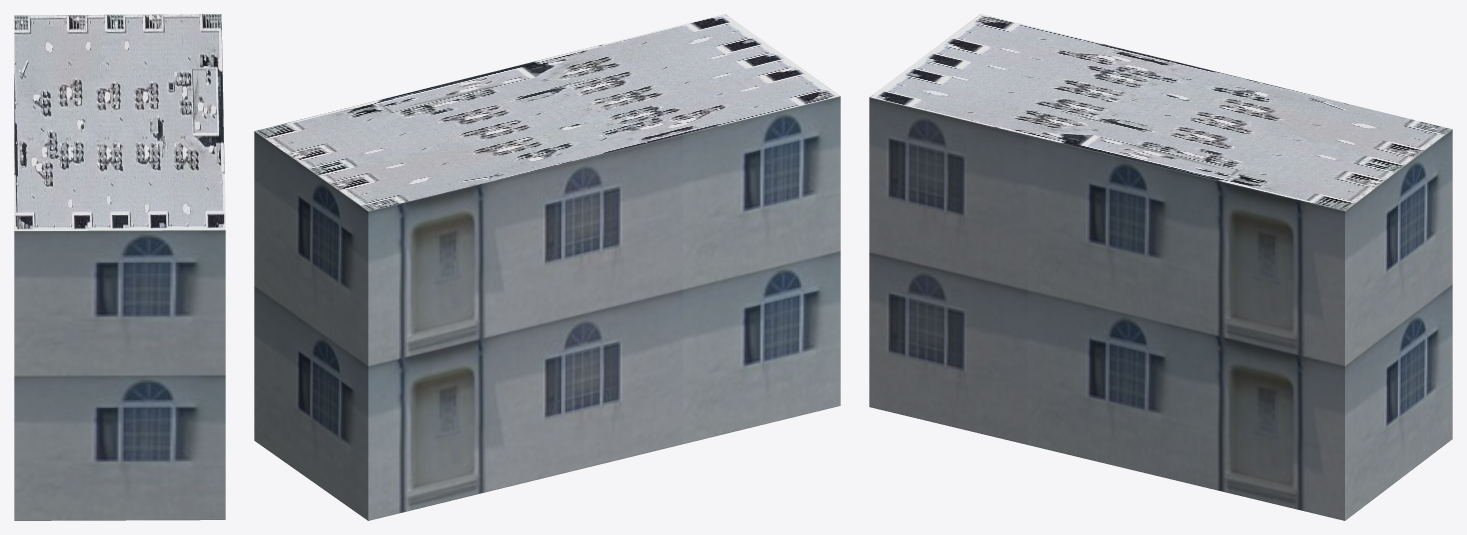
The model's file is ResTex__4012.fbx.
3 renders of one model, left to right at view 1: azimuth 30°, elevation 25°; view 2: azimuth 150°, elevation 25°; view 3: azimuth 270°, elevation 25°, orthographic. The views are drawn at different scales.
Parts seen in each view (by area): view 1: CityEngineMaterial_17_m, CityEngineMaterial_4_m; view 2: CityEngineMaterial_17_m, CityEngineMaterial_4_m; view 3: CityEngineMaterial_17_m, CityEngineMaterial_4_m.
Boxes of the visible parts, bbox=[...] form: CityEngineMaterial_17_m: bbox=[14, 230, 225, 520]; CityEngineMaterial_4_m: bbox=[14, 14, 225, 230]; CityEngineMaterial_17_m: bbox=[254, 96, 840, 520]; CityEngineMaterial_4_m: bbox=[254, 14, 840, 211]; CityEngineMaterial_17_m: bbox=[869, 97, 1452, 520]; CityEngineMaterial_4_m: bbox=[869, 14, 1451, 210].
Size of the model in its own units: 8.19 by 6 by 10.24.
2 materials, 2 textured.
